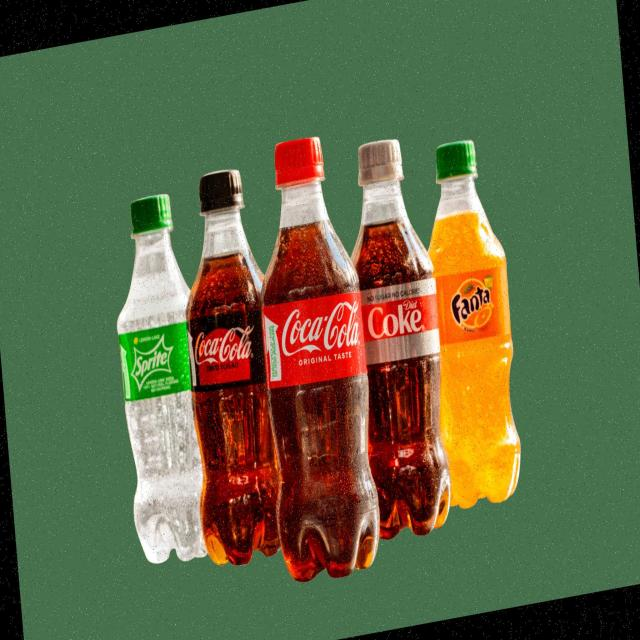coca-cola: (250, 124, 384, 593), (168, 158, 294, 574), (336, 124, 459, 550)
